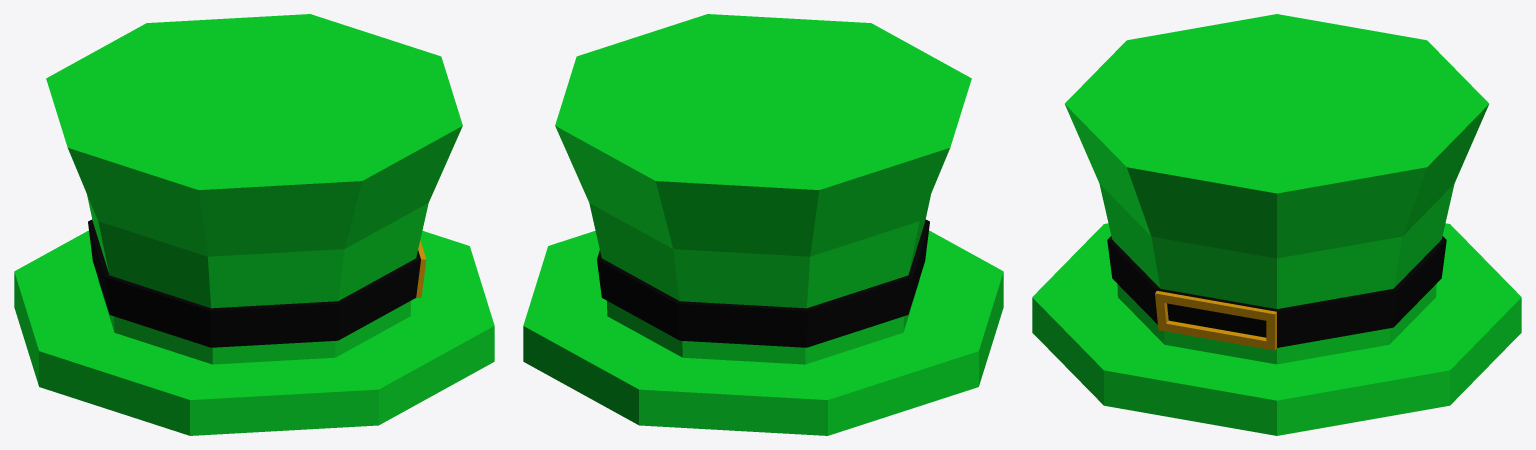
Rendered from LeprechaunHat.fbx.
The picture shows the model from 3 angles, left to right: view 1: azimuth 30°, elevation 25°; view 2: azimuth 150°, elevation 25°; view 3: azimuth 270°, elevation 25°; orthographic projection.
Visible parts, largest first — view 1: LeprechaunHat; view 2: LeprechaunHat; view 3: LeprechaunHat.
Boxes of the visible parts, left/top/right/bottom form: LeprechaunHat: left=14, top=14, right=494, bottom=435; LeprechaunHat: left=523, top=14, right=1003, bottom=435; LeprechaunHat: left=1032, top=14, right=1521, bottom=435.
Bounding box in the file's own units: 0.5808 × 0.2995 × 0.5808.
